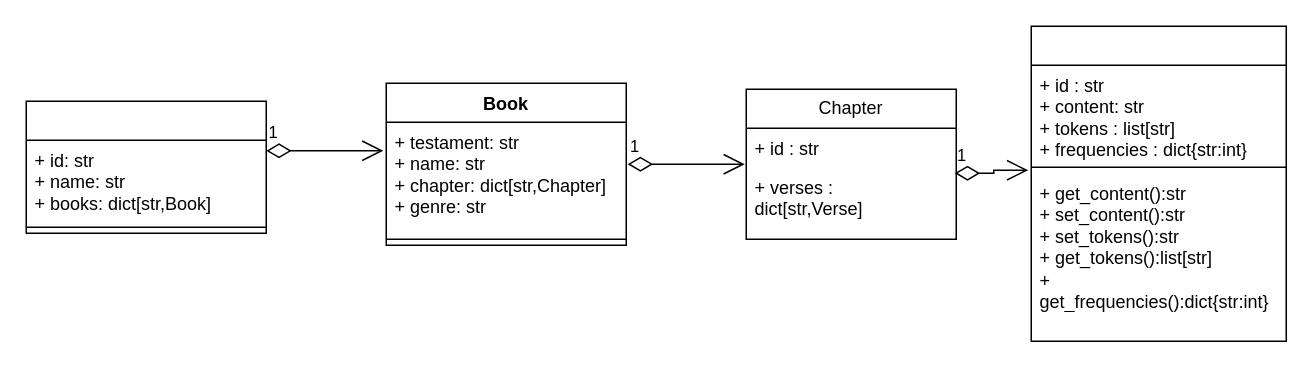
Some shapes in this 1313 by 372 pixel diagram are drawn without their labels. The shapes that lost their labels are listed below. From the top down, each one's box as (x1, y1, x2, y2) in pixels, then its label:
(25, 100, 266, 233): Testament
(1030, 25, 1286, 341): Verse
